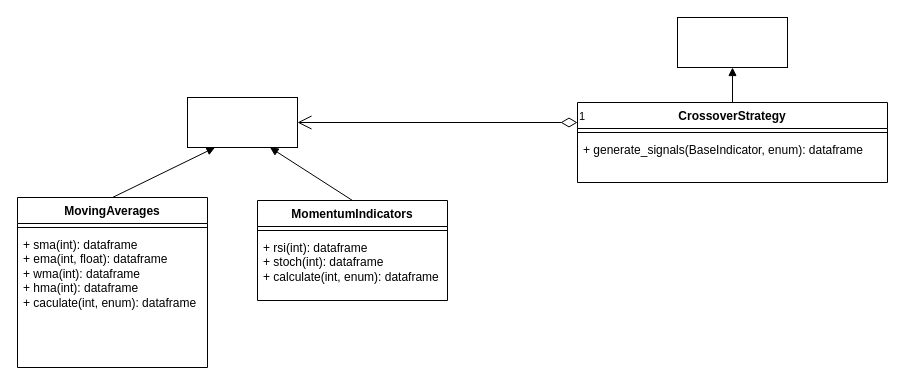
Some shapes in this 905 by 388 pixel diagram are drawn without their labels. The shapes that lost their labels are listed below. From the top down, each one's centre as x and y in pixels, then its label:
At point (732, 42): "BaseStrategy".
At point (242, 122): "BaseIndicator".
